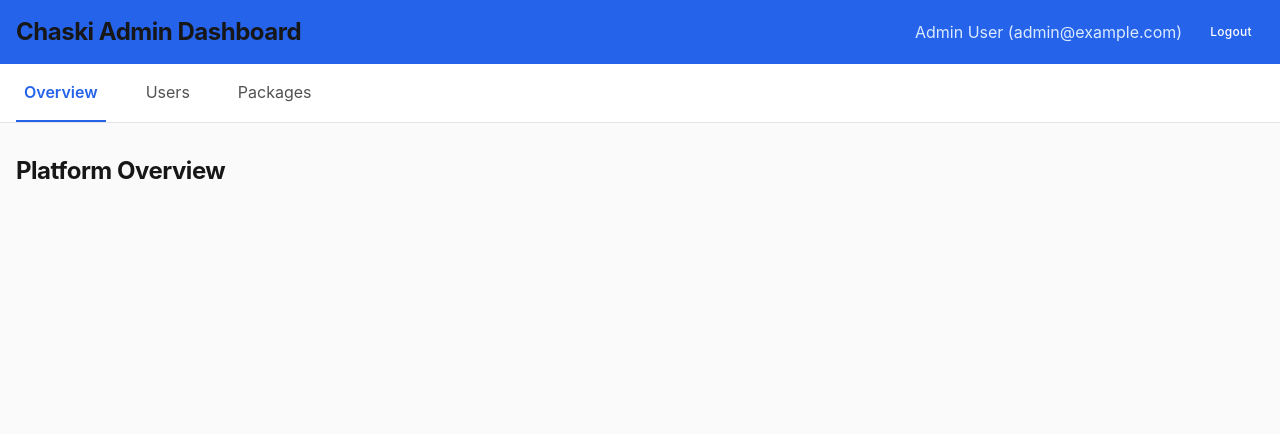
Test case: AdminPage › Navigation Tabs › switches to packages tab when clicked
This screenshot has width=1280, height=434.
Expected: the heading "Platform Overview" is shown, [16,156,225,185]
What coordinates should you click on to do the following:
click the button "Packages"
I would click on:
 (275, 93)
Its box is [230,64,320,122].
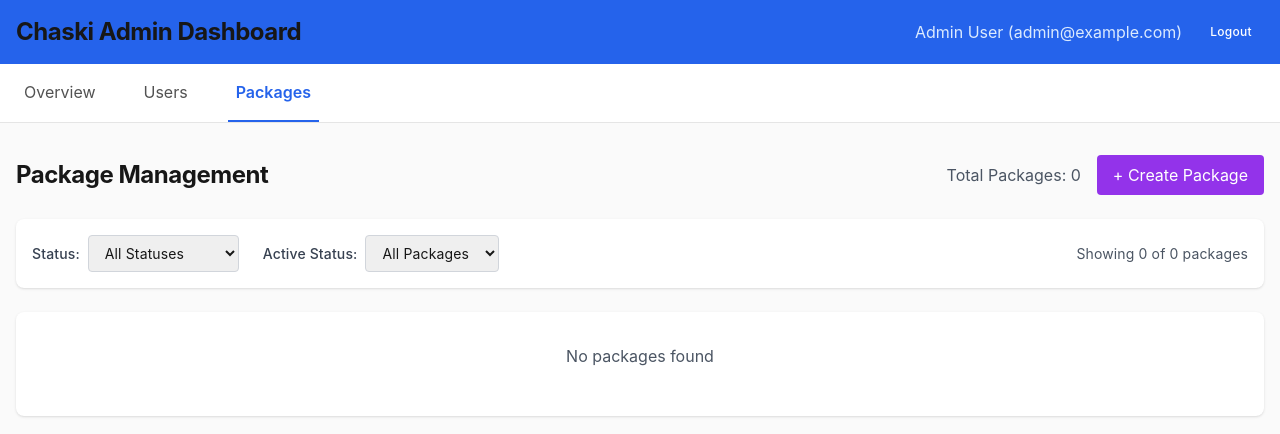
Expected: the heading "Package Management" is shown, [16,159,268,191]
